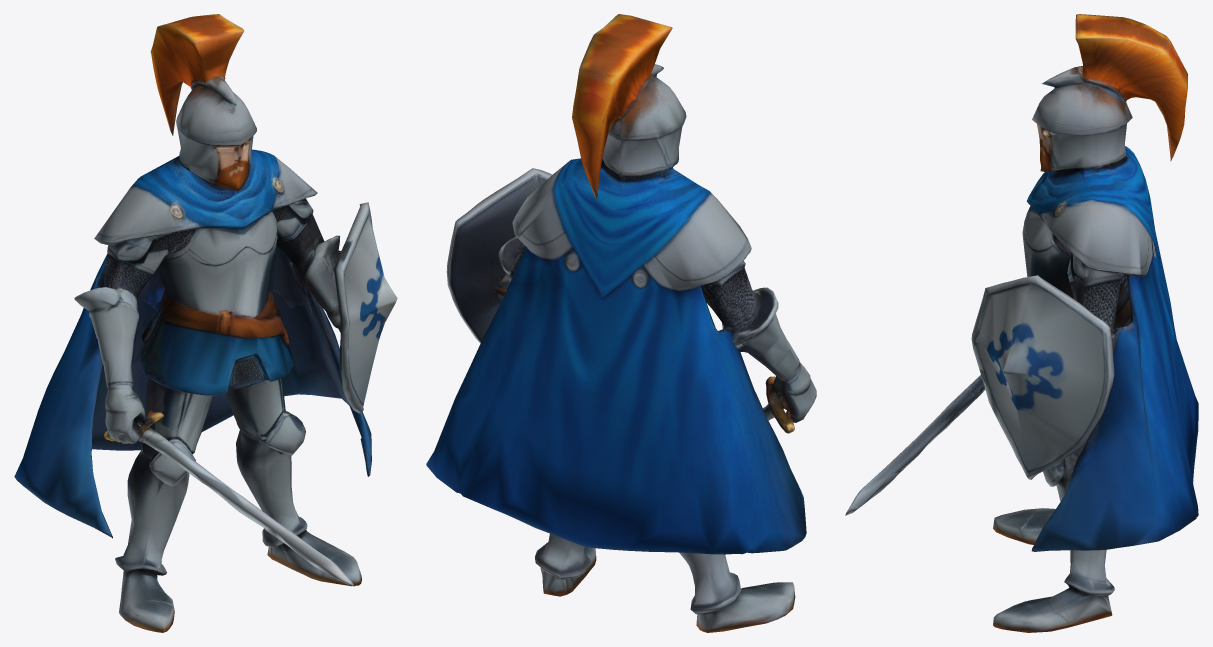
The model's file is knight.glb.
3 views of the same model, side by side, from view 1: azimuth 30°, elevation 25°; view 2: azimuth 150°, elevation 25°; view 3: azimuth 270°, elevation 25° (orthographic). The views are drawn at different scales.
Size of the model in its own units: 1.3 by 2 by 1.16.
1 material, 1 textured.
